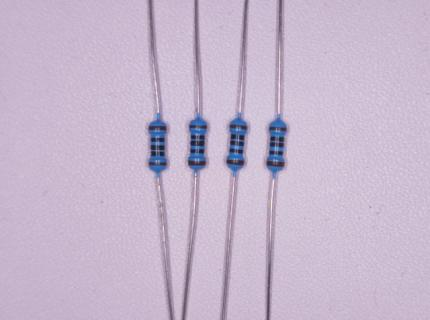Black band: (270, 142, 284, 148), (230, 134, 244, 140), (230, 148, 243, 154), (191, 140, 204, 146), (269, 150, 283, 155), (270, 137, 284, 142), (230, 141, 244, 146), (191, 135, 205, 140), (190, 149, 204, 154), (151, 137, 165, 142), (151, 145, 165, 150), (151, 151, 165, 156)
Brown band: (267, 160, 284, 167), (148, 125, 167, 131), (188, 160, 206, 166), (226, 159, 244, 165), (148, 161, 167, 166), (229, 124, 247, 129), (269, 126, 287, 131), (189, 124, 207, 128)
